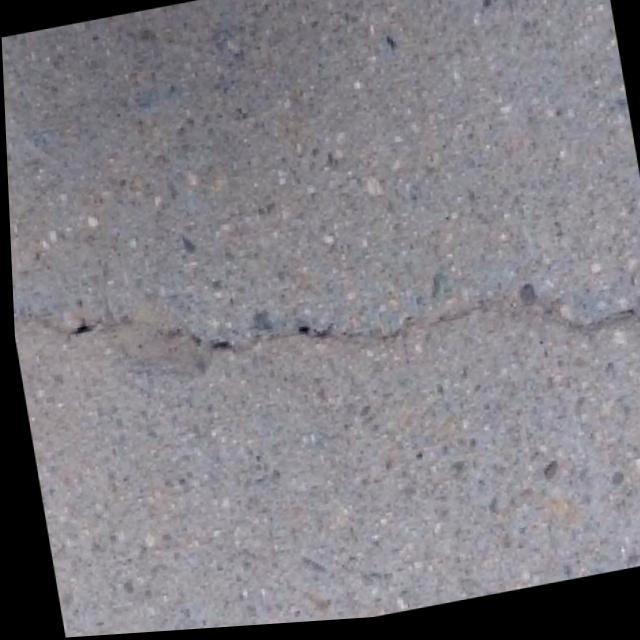Crack: (7, 175, 640, 484)
